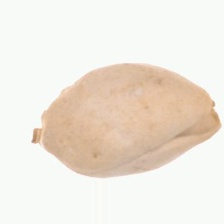L1: (183, 91, 221, 140), (31, 111, 55, 151)
L2: (30, 63, 222, 178)
